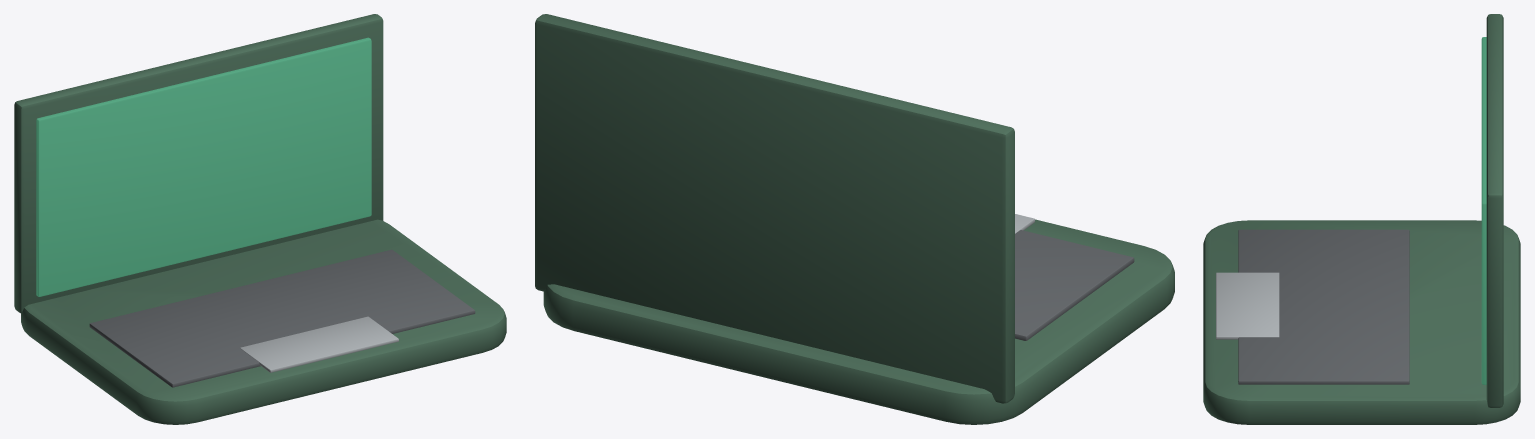
The model's file is laptop_public.glb.
The picture shows the model from 3 angles, left to right: view 1: azimuth 30°, elevation 25°; view 2: azimuth 150°, elevation 25°; view 3: azimuth 270°, elevation 25°; orthographic projection. The views are drawn at different scales.
Visible parts, largest first — view 1: Laptop_Screen, Laptop_Base, Laptop_Keyboard, Laptop_ScreenBack, Laptop_Trackpad; view 2: Laptop_ScreenBack, Laptop_Base, Laptop_Keyboard; view 3: Laptop_Base, Laptop_Keyboard, Laptop_ScreenBack, Laptop_Trackpad, Laptop_Screen.
Boxes of the visible parts, x1,y1,x2,y2 form: Laptop_Screen: [36, 37, 371, 296]; Laptop_Base: [21, 219, 506, 424]; Laptop_Keyboard: [89, 249, 475, 387]; Laptop_ScreenBack: [14, 14, 383, 313]; Laptop_Trackpad: [240, 316, 398, 372]; Laptop_ScreenBack: [535, 14, 1014, 403]; Laptop_Base: [543, 219, 1174, 424]; Laptop_Keyboard: [1015, 230, 1134, 340]; Laptop_Base: [1203, 220, 1520, 424]; Laptop_Keyboard: [1238, 229, 1409, 384]; Laptop_ScreenBack: [1486, 14, 1503, 407]; Laptop_Trackpad: [1216, 272, 1279, 339]; Laptop_Screen: [1481, 37, 1486, 384].
Size of what is drawn, in the model's own units: 0.3264 by 0.1945 by 0.24.
